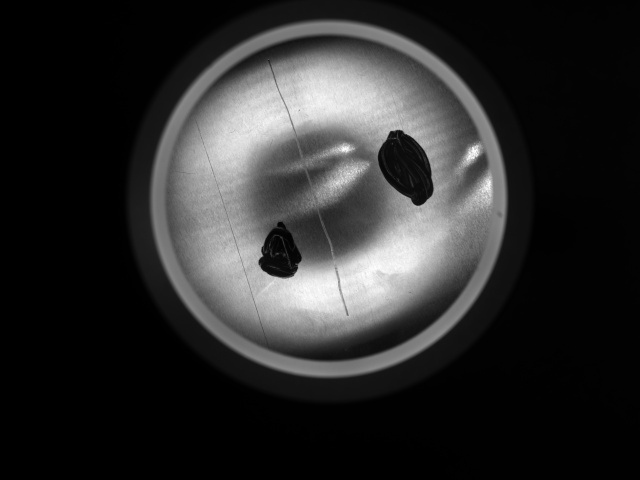ca_shang: (266, 52, 352, 317), (192, 118, 269, 344)
zang_wu: (377, 127, 435, 208), (254, 219, 304, 279)
